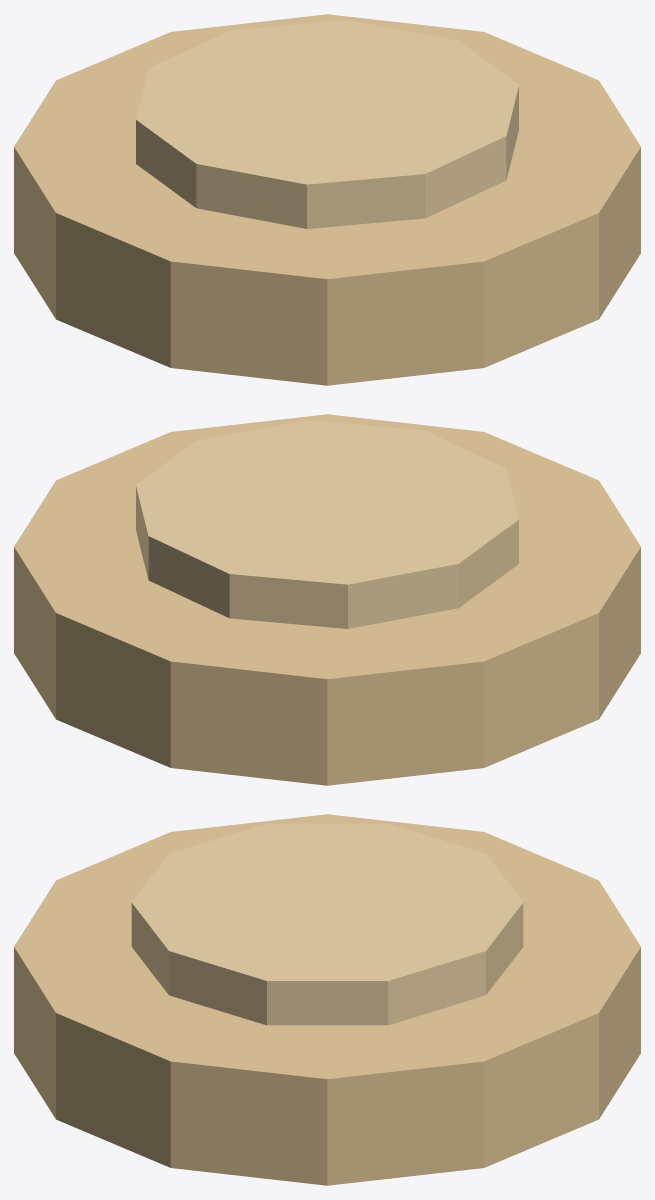
The model's file is item_bread.glb.
The picture shows the model from 3 angles, top to bottom: view 1: azimuth 30°, elevation 25°; view 2: azimuth 150°, elevation 25°; view 3: azimuth 270°, elevation 25°; orthographic projection.
Visible parts, largest first — view 1: item_bread; view 2: item_bread; view 3: item_bread.
Boxes of the visible parts, left/top/right/bottom form: item_bread: left=14, top=14, right=640, bottom=385; item_bread: left=14, top=414, right=640, bottom=785; item_bread: left=14, top=814, right=640, bottom=1185.
Size of the model in its own units: 0.32 by 0.085 by 0.32.
